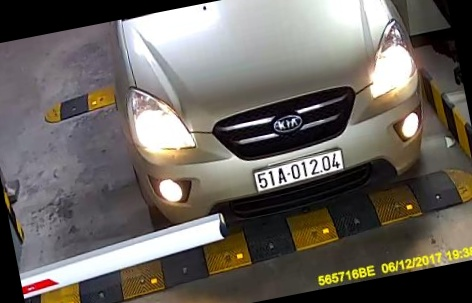plate: (246, 149, 355, 197)
